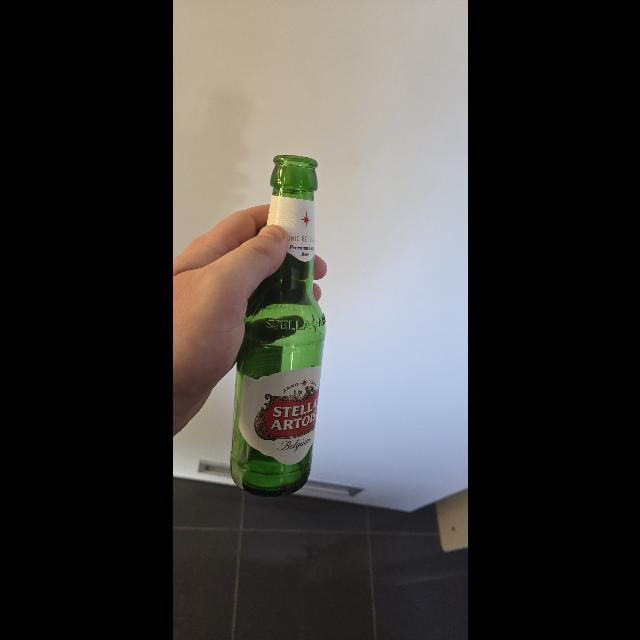Glass: (228, 150, 326, 498)
